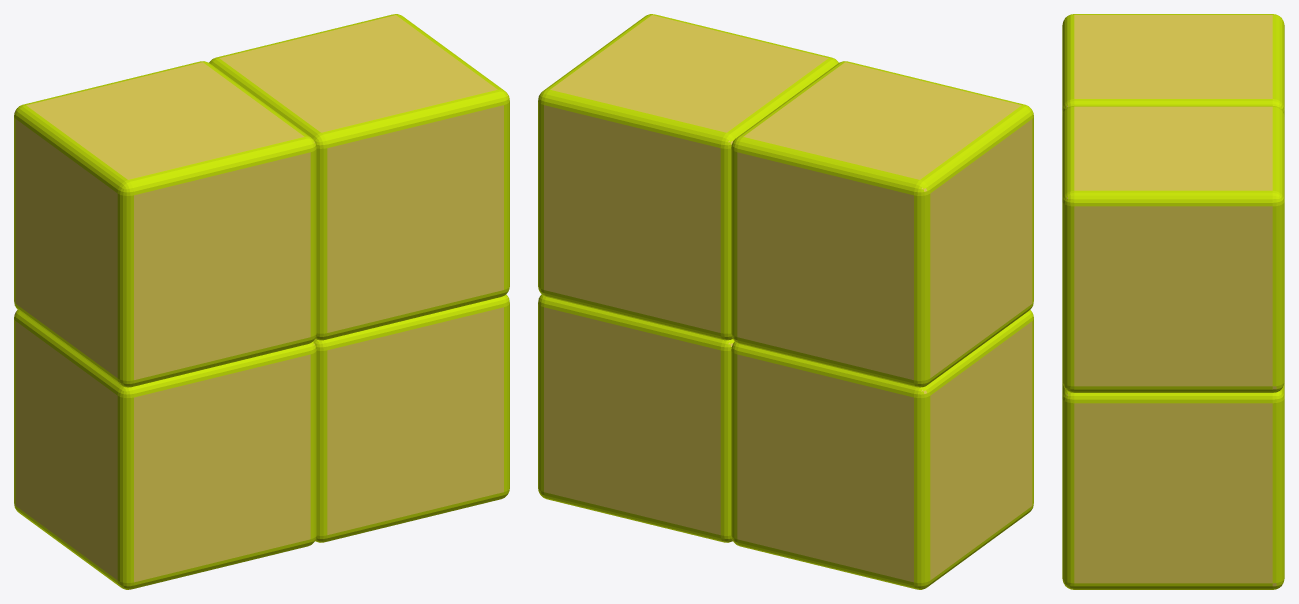
The model's file is yellow.glb.
The picture shows the model from 3 angles, left to right: view 1: azimuth 30°, elevation 25°; view 2: azimuth 150°, elevation 25°; view 3: azimuth 270°, elevation 25°; orthographic projection. The views are drawn at different scales.
Visible parts, largest first — view 1: Cube.002, Cube.003, Cube.001, Cube.004; view 2: Cube.002, Cube.003, Cube.001, Cube.004; view 3: Cube.001, Cube.004, Cube.002.
Part boxes in pixels (x1,y1,x2,y2): Cube.002: [14, 61, 316, 387]; Cube.003: [14, 310, 316, 589]; Cube.001: [209, 14, 509, 340]; Cube.004: [313, 294, 509, 542]; Cube.002: [731, 61, 1033, 387]; Cube.003: [731, 310, 1033, 589]; Cube.001: [538, 14, 838, 340]; Cube.004: [538, 294, 734, 542]; Cube.001: [1062, 105, 1284, 392]; Cube.004: [1062, 382, 1284, 589]; Cube.002: [1062, 14, 1284, 116].
Size of the model in its own units: 2.02 by 2.02 by 1.02.
